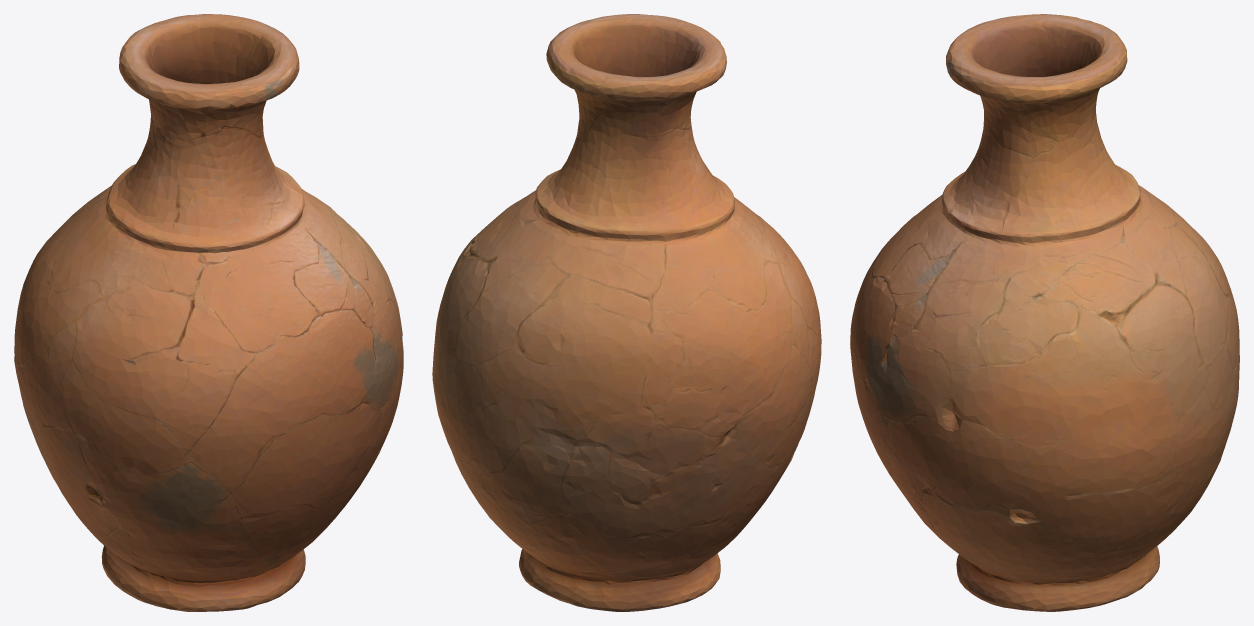
The model's file is Generate_a_medium_h_0508124401_texture.fbx.
The picture shows the model from 3 angles, left to right: view 1: azimuth 30°, elevation 25°; view 2: azimuth 150°, elevation 25°; view 3: azimuth 270°, elevation 25°; orthographic projection.
Visible parts, largest first — view 1: temp; view 2: temp; view 3: temp.
Boxes of the visible parts, x1=… form: temp: x1=14, y1=14, x2=403, y2=611; temp: x1=432, y1=14, x2=821, y2=611; temp: x1=850, y1=14, x2=1239, y2=611.
Bounding box in the file's own units: 133 × 200 × 133.
1 material, 1 textured.
